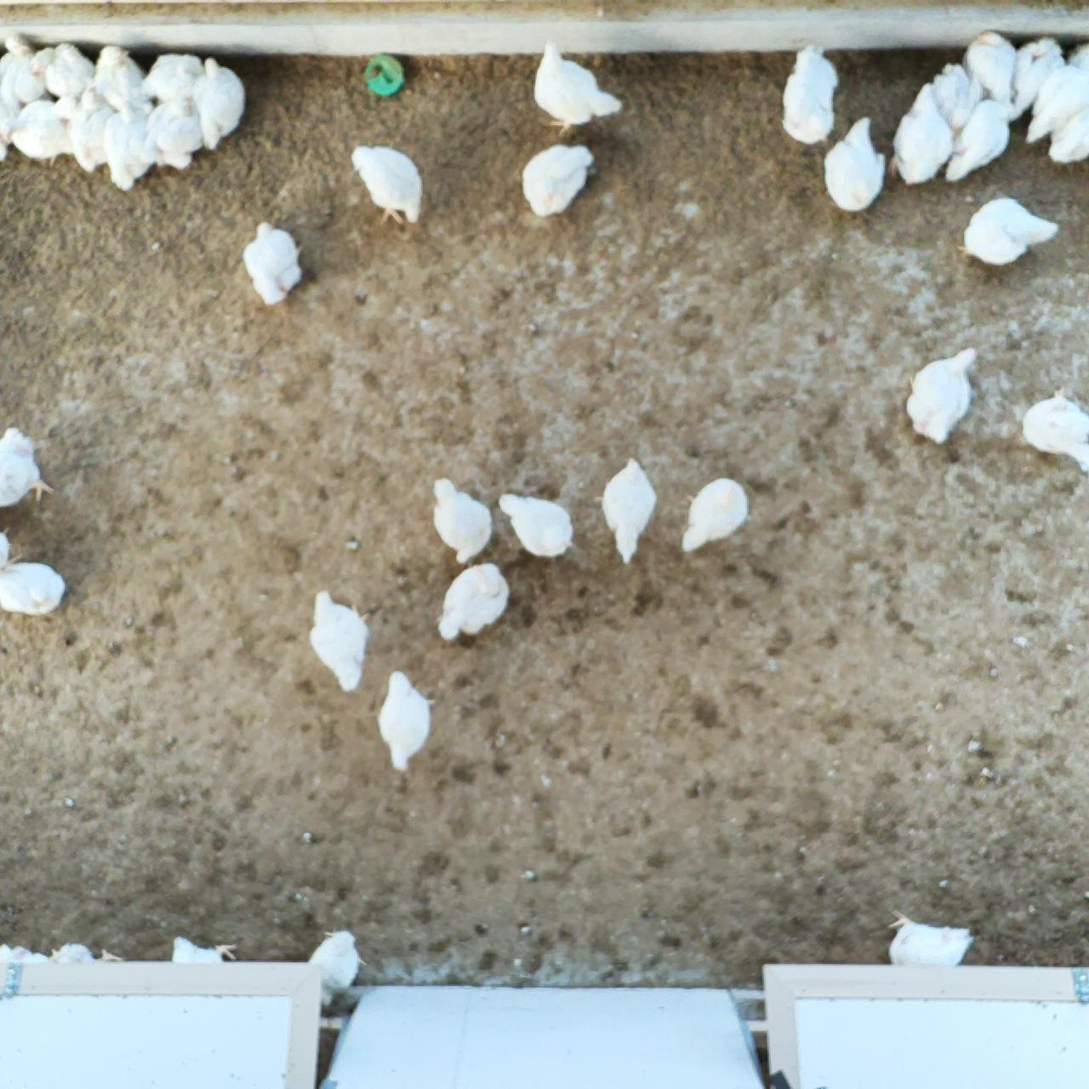chicken: (531, 32, 627, 136), (899, 340, 986, 448), (955, 191, 1063, 271), (590, 453, 663, 569), (884, 78, 956, 194), (305, 585, 377, 697), (773, 39, 843, 148), (820, 111, 893, 215), (370, 667, 438, 777), (346, 140, 425, 230), (432, 559, 513, 646), (425, 471, 496, 568), (516, 139, 599, 219), (1020, 381, 1089, 476), (943, 102, 1017, 190), (883, 903, 978, 971), (189, 54, 251, 155), (496, 487, 577, 564), (239, 220, 308, 310), (300, 922, 372, 1008), (1023, 54, 1089, 146), (98, 102, 157, 192), (0, 424, 57, 514), (1007, 32, 1065, 116), (67, 86, 120, 177), (146, 99, 210, 174), (0, 97, 71, 164), (961, 24, 1020, 104), (28, 39, 98, 101), (0, 556, 68, 619), (929, 59, 986, 134), (0, 28, 50, 107), (141, 48, 205, 106), (91, 43, 144, 106), (1042, 100, 1089, 168), (49, 939, 123, 972), (168, 934, 243, 963), (0, 941, 60, 969)
